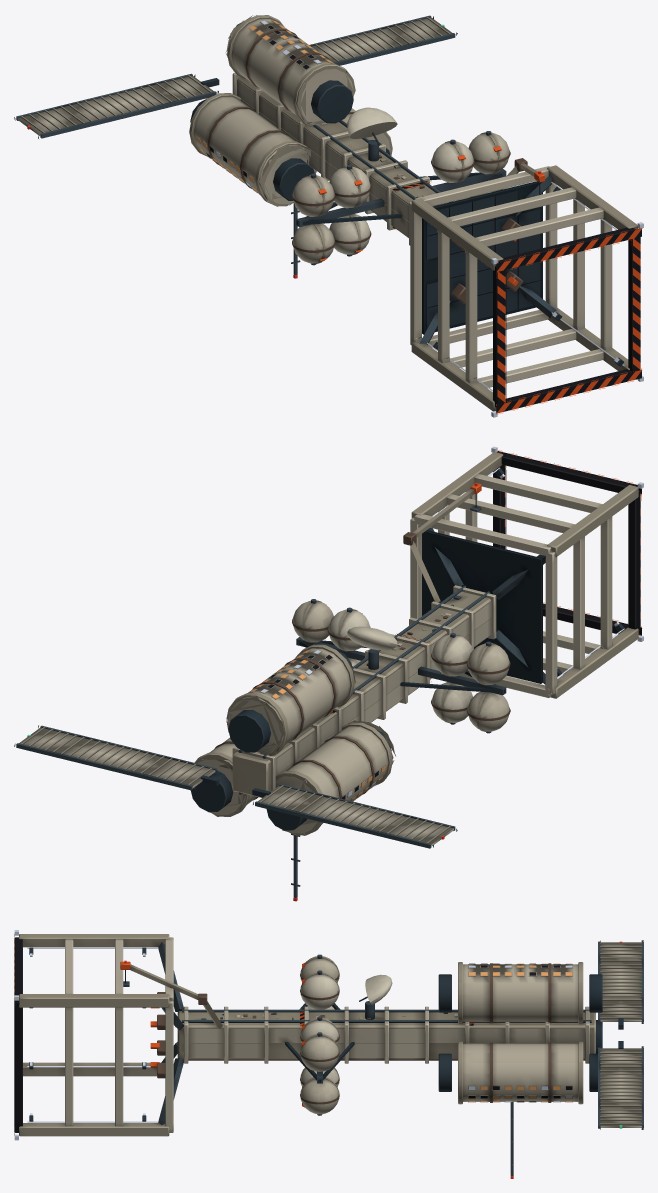
File: depot.glb
3 views of the same model, one above another, from view 1: azimuth 30°, elevation 25°; view 2: azimuth 150°, elevation 25°; view 3: azimuth 270°, elevation 25° (orthographic). The views are drawn at different scales.
Visible parts, largest first — view 1: catch, hab, tanks, radiators, spine, dish, lamps; view 2: catch, hab, spine, radiators, tanks, crane, dish; view 3: hab, spine, catch, radiators, tanks, crane, lamps, dish, catch_lights.
Part boxes in pixels (<box>): catch: <box>410,165,642,414</box>; hab: <box>189,15,392,206</box>; tanks: <box>292,131,510,265</box>; radiators: <box>14,15,457,138</box>; spine: <box>232,73,452,245</box>; dish: <box>347,107,397,161</box>; lamps: <box>196,20,619,362</box>; catch: <box>410,450,642,698</box>; hab: <box>190,644,395,835</box>; spine: <box>232,585,496,797</box>; radiators: <box>14,725,457,848</box>; tanks: <box>292,599,510,733</box>; crane: <box>403,483,481,602</box>; dish: <box>347,626,397,669</box>; hab: <box>438,962,602,1104</box>; spine: <box>177,1006,595,1063</box>; catch: <box>14,934,183,1136</box>; radiators: <box>598,940,643,1129</box>; tanks: <box>285,954,354,1115</box>; crane: <box>120,961,222,1028</box>; lamps: <box>30,953,572,1115</box>; dish: <box>359,974,392,1019</box>; catch_lights: <box>14,930,158,1140</box>.
Bounding box in the file's own units: 105 × 61 × 151.
